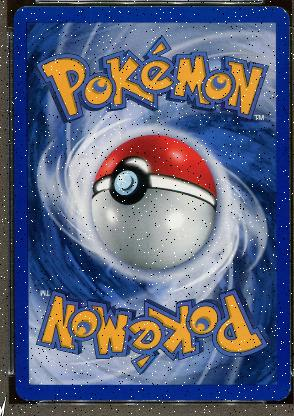Card: (9, 2, 291, 406)
Corner Wear: (277, 6, 291, 20), (275, 388, 290, 400), (14, 5, 35, 12), (22, 398, 36, 402)
Edge Wear: (137, 399, 157, 401)
